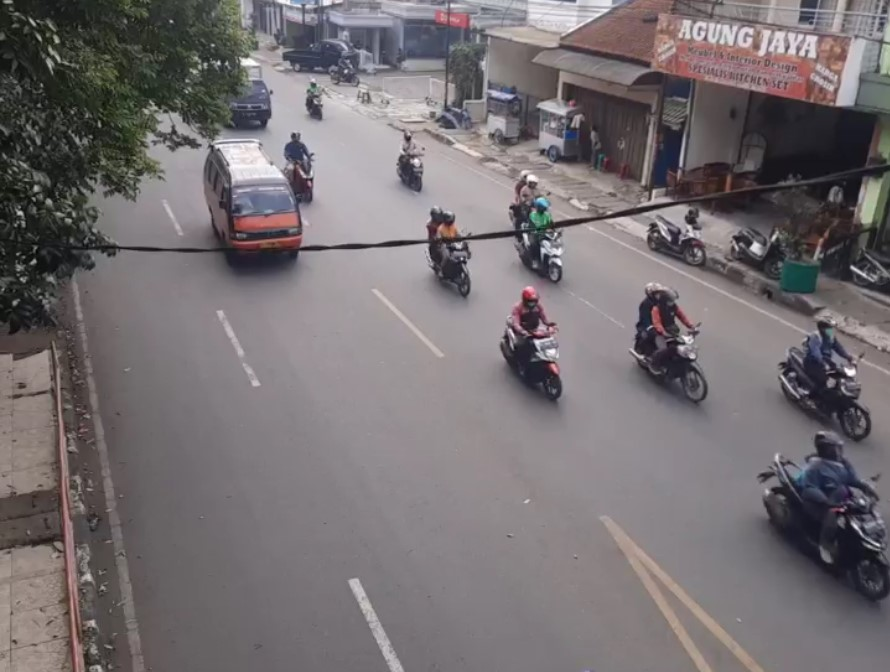mobil: (202, 134, 302, 269)
motor: (781, 314, 873, 442), (634, 278, 711, 404), (500, 289, 568, 400), (420, 208, 473, 300), (515, 198, 570, 282), (278, 130, 324, 200), (393, 131, 427, 193)
